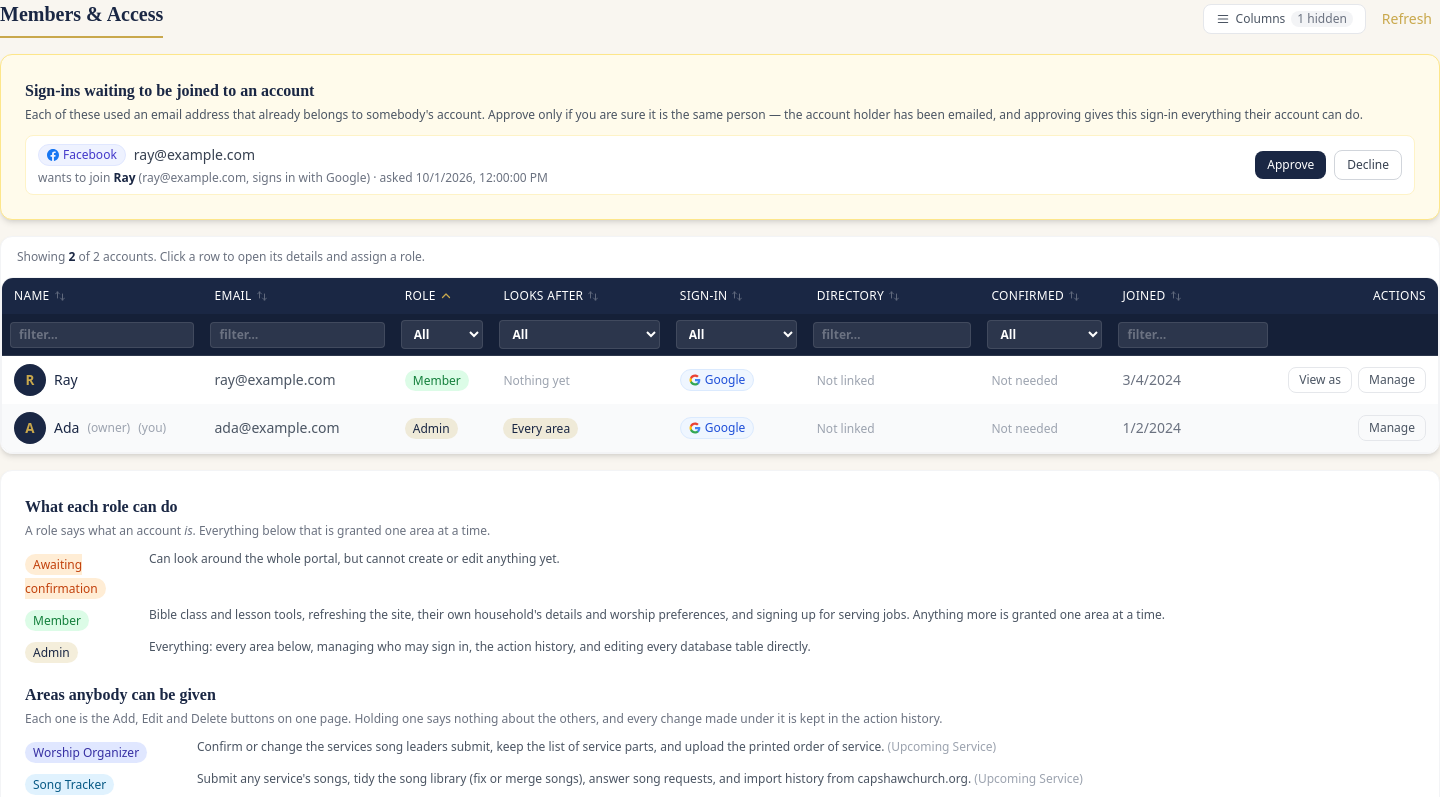
UsersView — sign-ins waiting to be joined › a refusal from the server is shown, and the request stays
The image size is (1440, 797).
expect the button with aria-label "Manage Ada" is shown: met, box left=1358, top=415, right=1426, bottom=441
Click the button with aria-label "Approve Facebook sign-in for Ray": (1291, 165) left=1255, top=151, right=1326, bottom=179
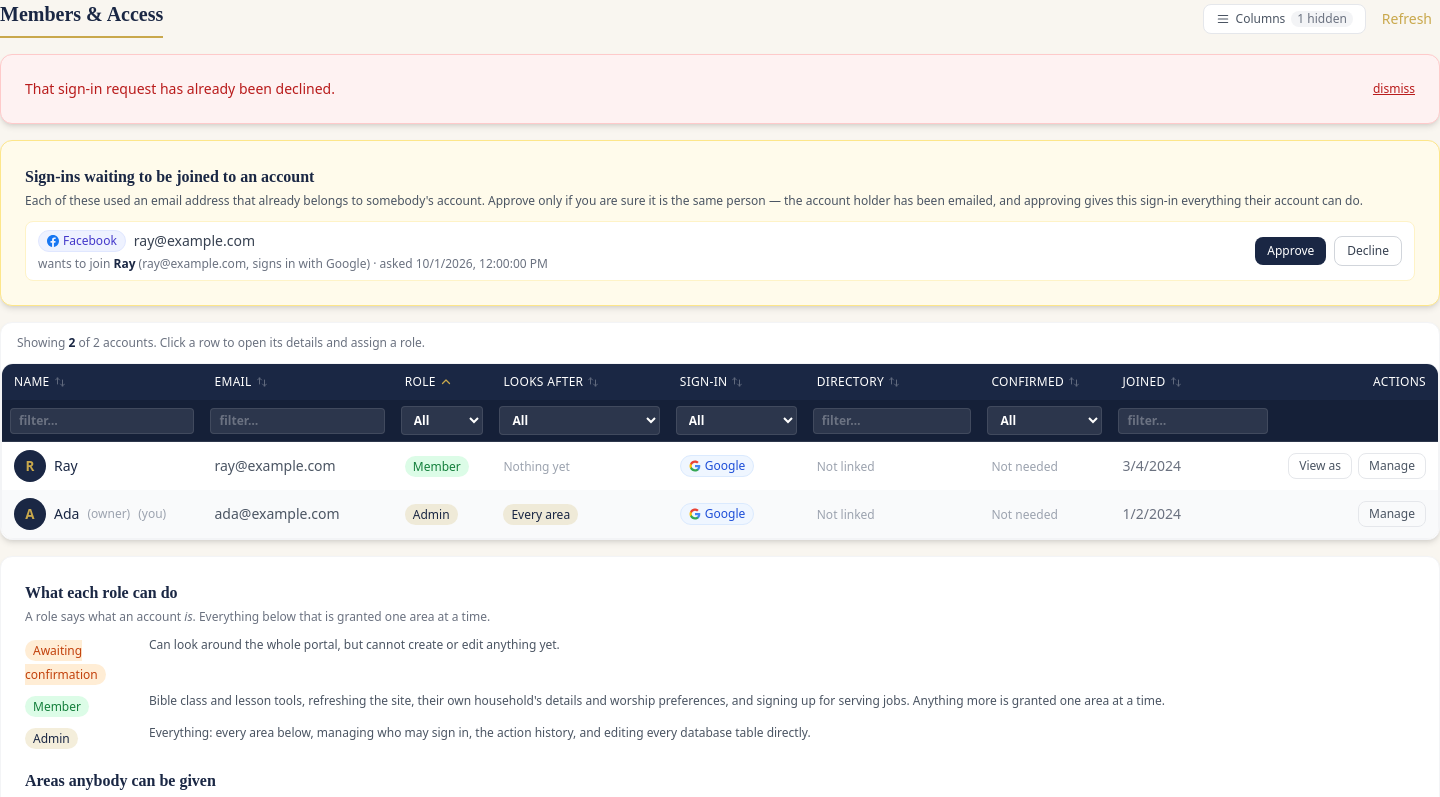
expect the element "Sign-ins waiting to be joined" is shown: met, box left=0, top=140, right=1439, bottom=306
expect the text "That sign-in request has already been declined." is shown: met, box left=25, top=79, right=335, bottom=99
